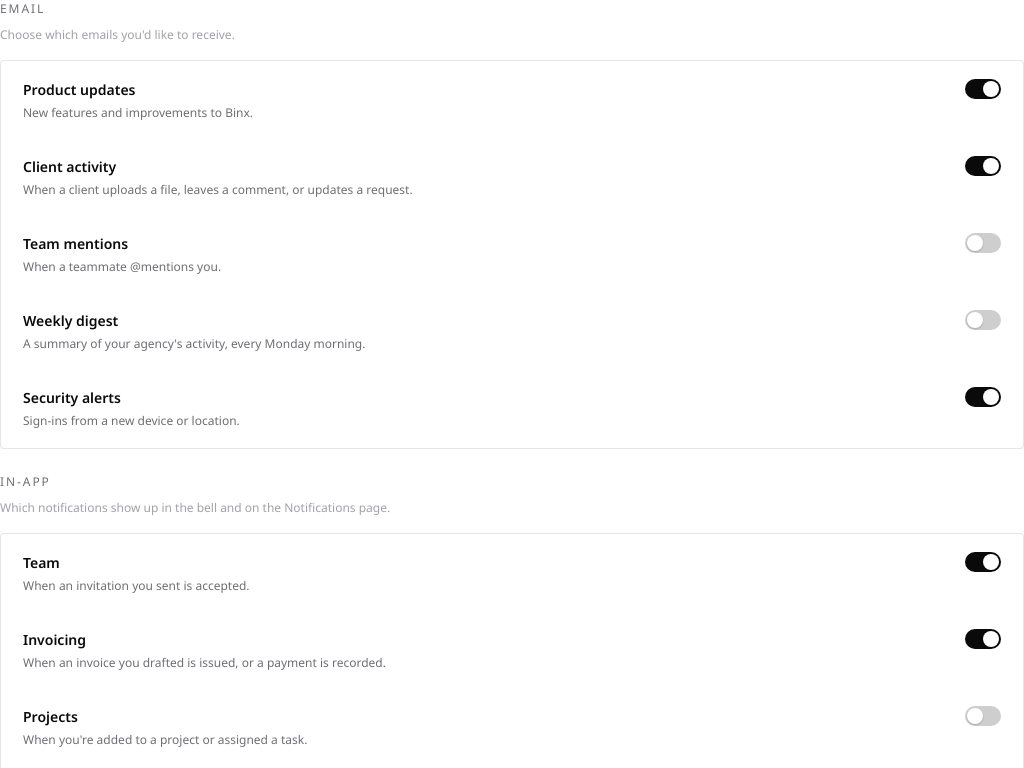
Scenario: NotificationSettingsForm › saves every toggle's current value, including the one just flipped
This screenshot has width=1024, height=768.
Click the switch named "Team mentions" at (983, 243), box [965, 233, 1001, 253]
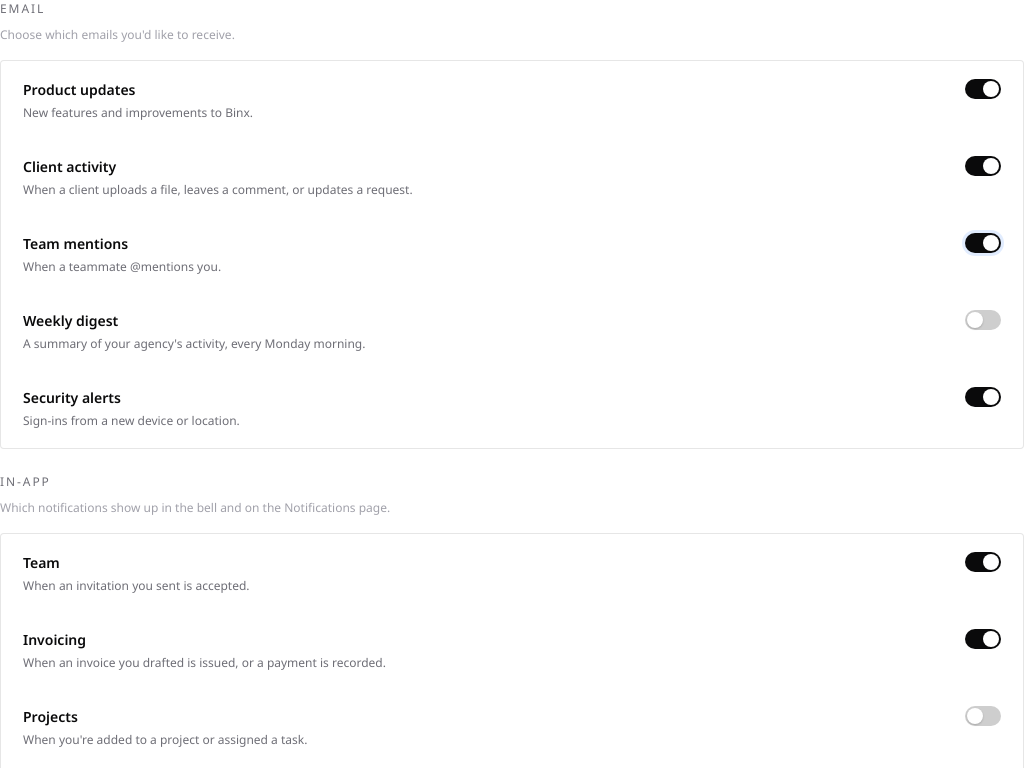
Click the switch named "Product updates" at (983, 89), box [965, 79, 1001, 99]
(page scrolled)
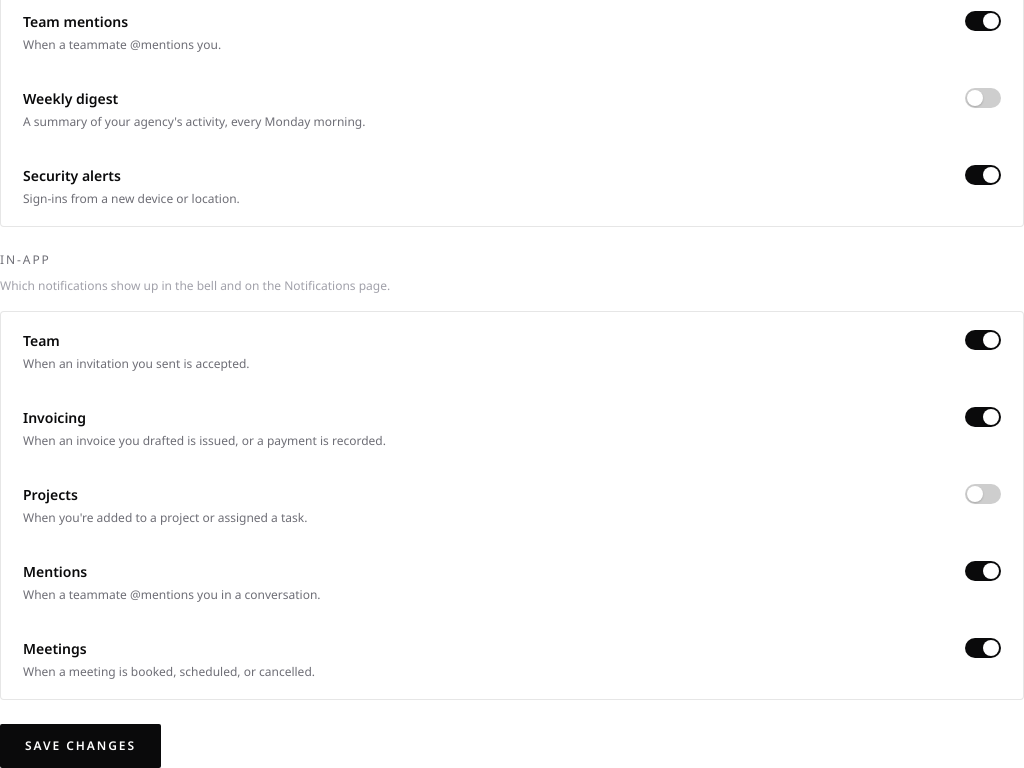
Click the button "Save changes" at (80, 746), box [0, 724, 161, 767]
(page scrolled)
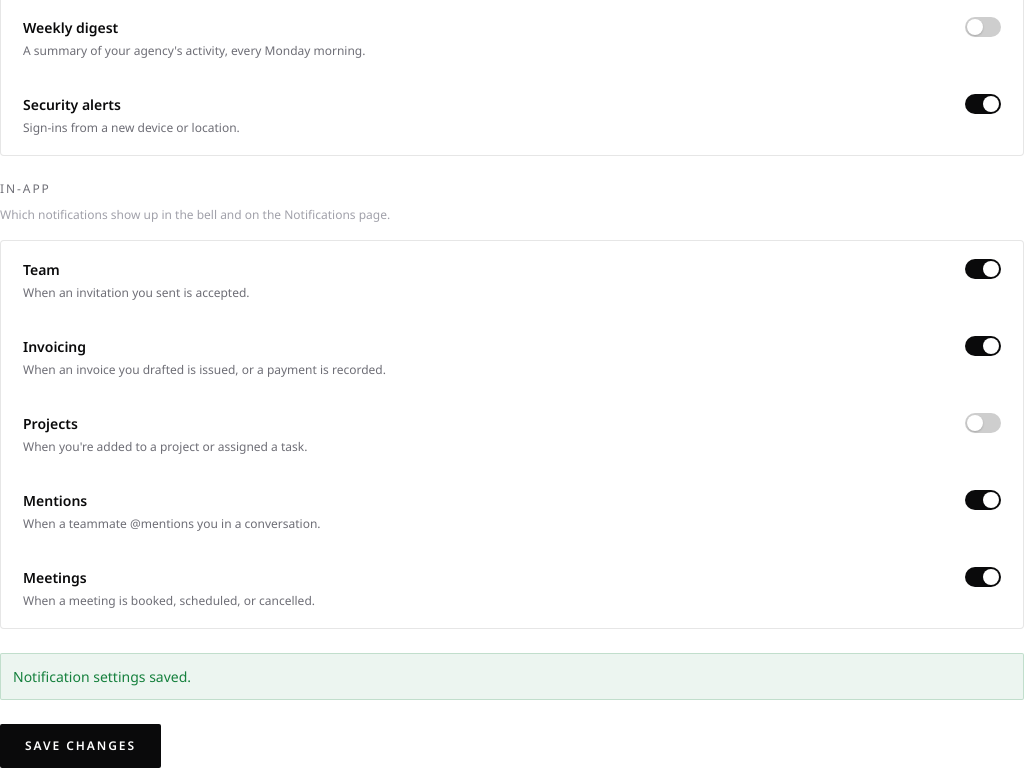
Check: the text "Notification settings saved." is shown, box [0, 653, 1023, 700]
